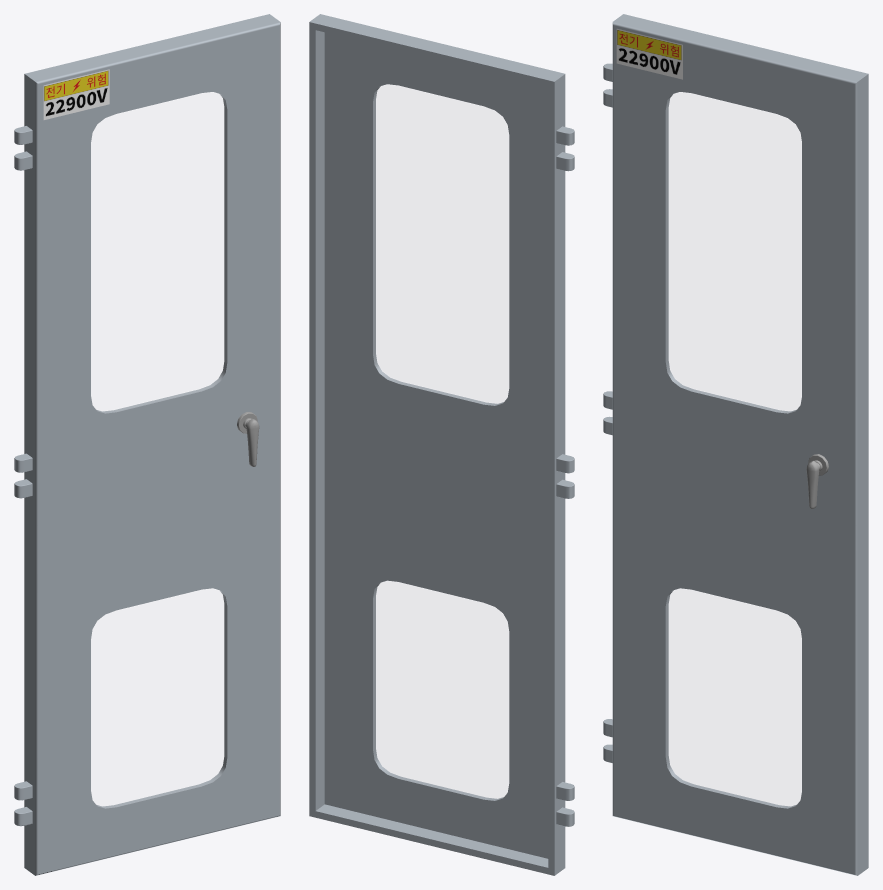
The model's file is PT_FRONT_DOOR1.fbx.
3 views of the same model, side by side, from view 1: azimuth 30°, elevation 25°; view 2: azimuth 150°, elevation 25°; view 3: azimuth 330°, elevation 25° (orthographic).
Parts seen in each view (by area): view 1: PT_FRONT_DOOR1; view 2: PT_FRONT_DOOR1; view 3: PT_FRONT_DOOR1.
Boxes of the visible parts, left/top/right/bottom form: PT_FRONT_DOOR1: left=14, top=14, right=280, bottom=875; PT_FRONT_DOOR1: left=309, top=14, right=574, bottom=875; PT_FRONT_DOOR1: left=603, top=14, right=868, bottom=875.
Bounding box in the file's own units: 0.6334 × 1.85 × 0.0934.
3 materials, 2 textured.
